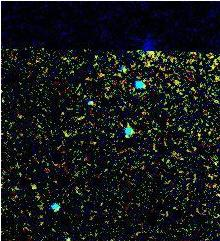star: (19, 171, 49, 201)
